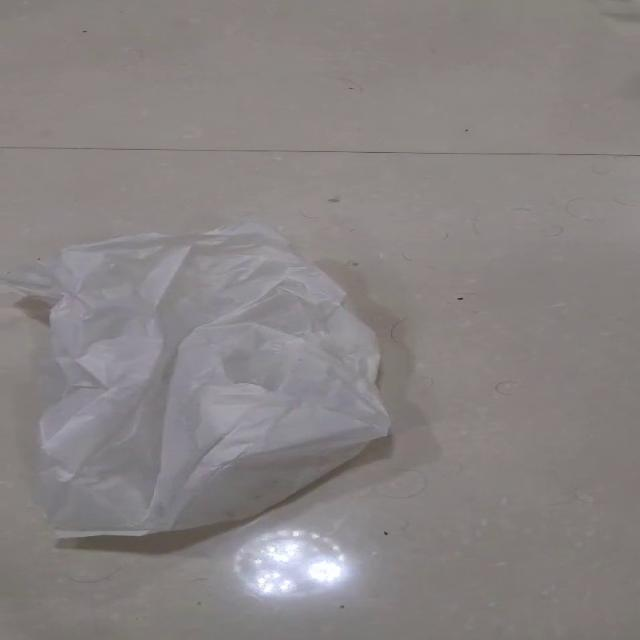plastic: (4, 219, 391, 538)
